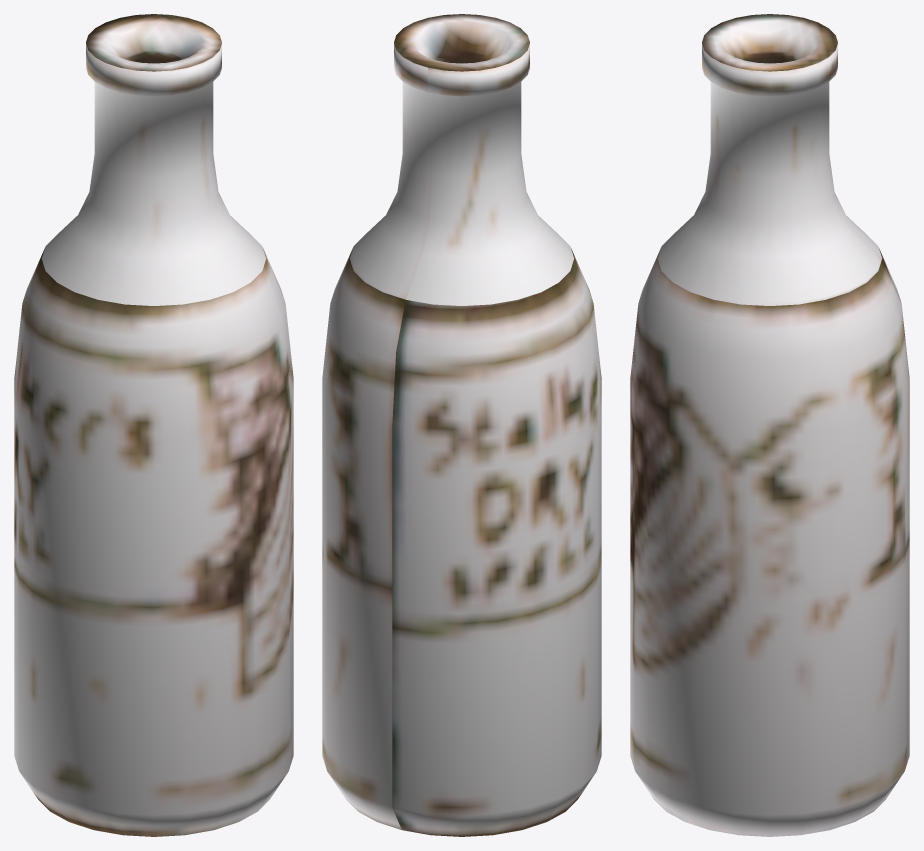
The picture shows the model from 3 angles, left to right: view 1: azimuth 30°, elevation 25°; view 2: azimuth 150°, elevation 25°; view 3: azimuth 270°, elevation 25°; orthographic projection.
Parts seen in each view (by area): view 1: Beer_Stalker; view 2: Beer_Stalker; view 3: Beer_Stalker.
Boxes of the visible parts, x1,y1,x2,y2 form: Beer_Stalker: [14, 14, 293, 836]; Beer_Stalker: [322, 14, 601, 836]; Beer_Stalker: [630, 14, 909, 836].
Size of the model in its own units: 11.19 by 32.86 by 11.19.
1 material, 1 textured.
